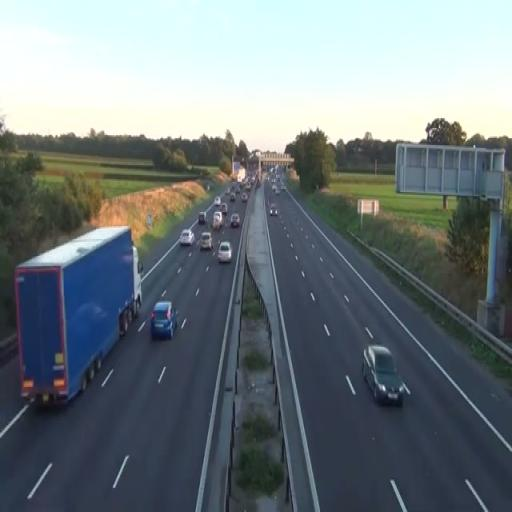Car: (362, 341, 404, 407), (150, 300, 179, 340), (218, 240, 232, 263), (180, 228, 194, 247), (200, 232, 212, 250), (212, 210, 222, 230), (230, 213, 240, 228)
Truck: (14, 226, 143, 410)
